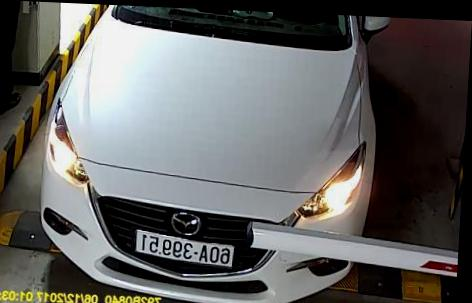License_Plate: (128, 230, 242, 269)
